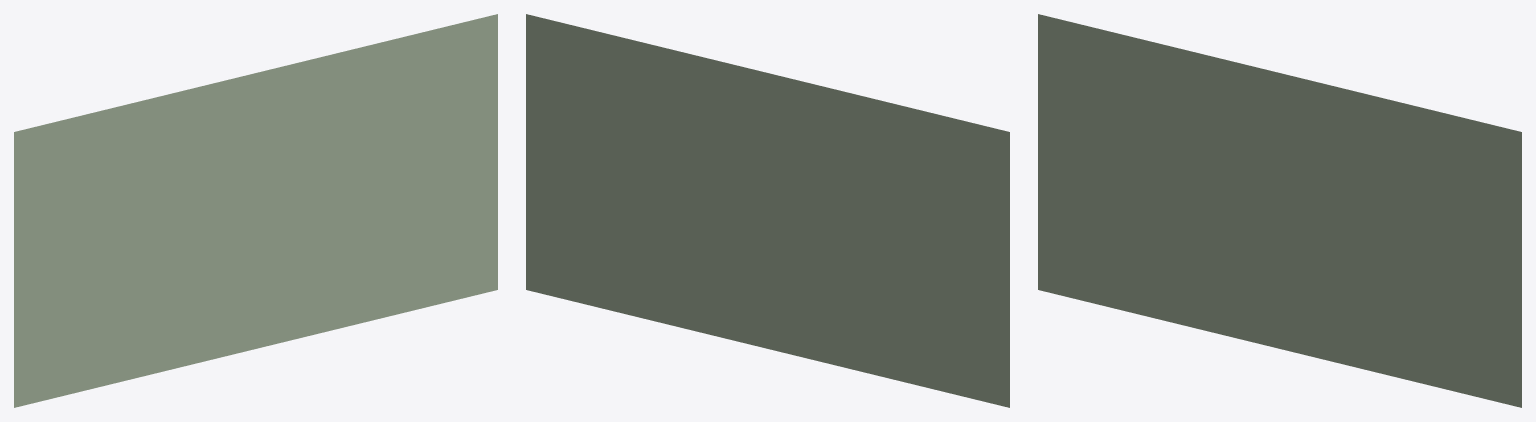
The model's file is 1119-Buildings-shell-pieces-facade-bay-wall-round-an-opening-reveals-sill-head-emitBa.glb.
3 renders of one model, left to right at view 1: azimuth 30°, elevation 25°; view 2: azimuth 150°, elevation 25°; view 3: azimuth 330°, elevation 25°, orthographic.
Visible parts, largest first — view 1: emitBay; view 2: emitBay; view 3: emitBay.
Boxes of the visible parts, x1,y1,x2,y2 form: emitBay: (14, 14, 497, 407); emitBay: (526, 14, 1009, 407); emitBay: (1038, 14, 1521, 407).
Bounding box in the file's own units: 6 × 3.27 × 0.
